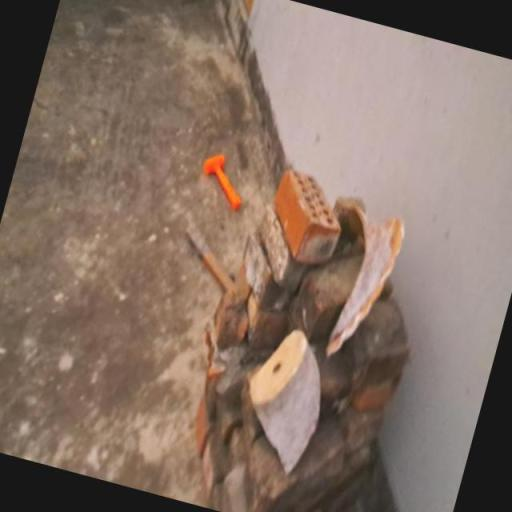mallet: (194, 150, 252, 212)
